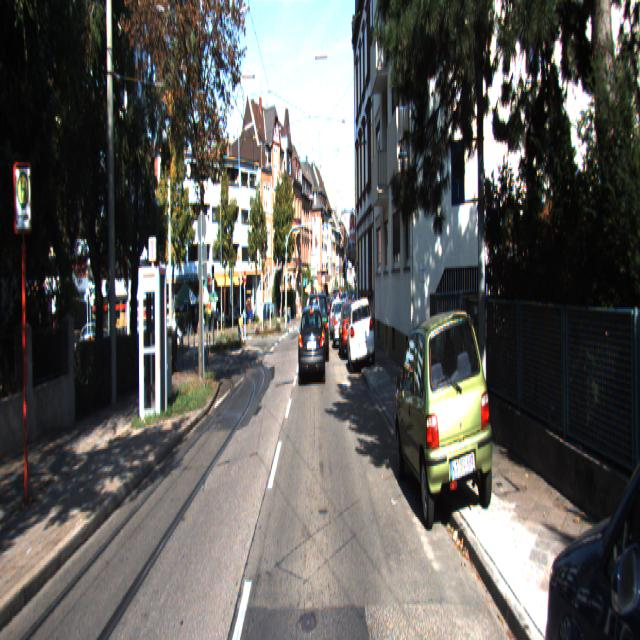Car: (534, 232, 640, 638), (393, 301, 496, 540), (298, 300, 325, 386), (346, 294, 375, 374), (308, 291, 329, 364), (337, 301, 361, 364), (332, 301, 350, 354)
